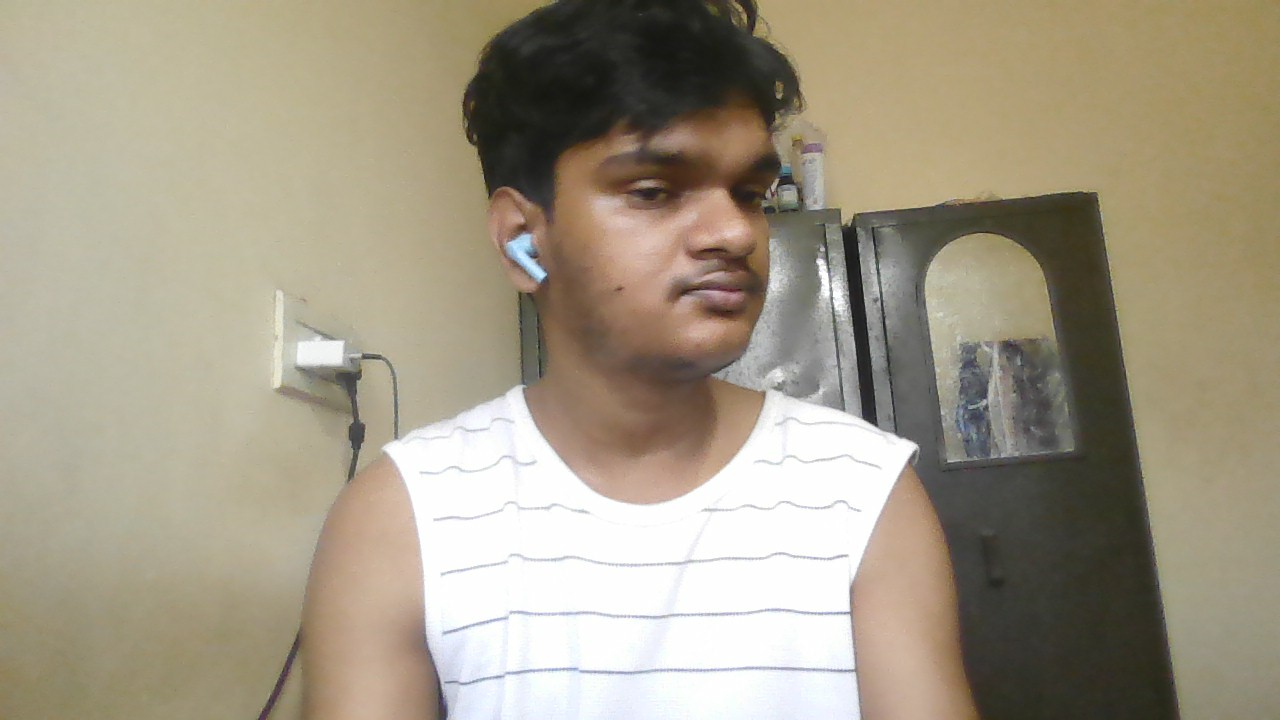earphone: (506, 228, 545, 283)
